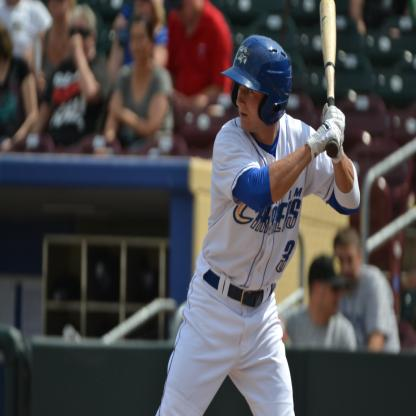Helmet: (228, 36, 296, 130)
